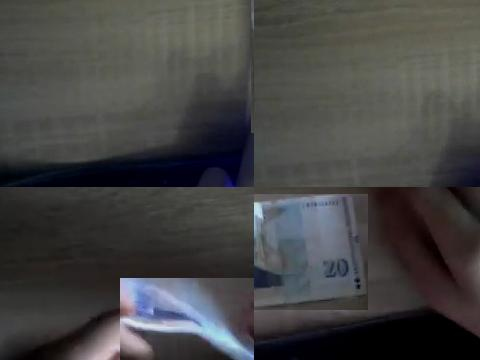20leva: (254, 194, 368, 309), (120, 278, 254, 360)
